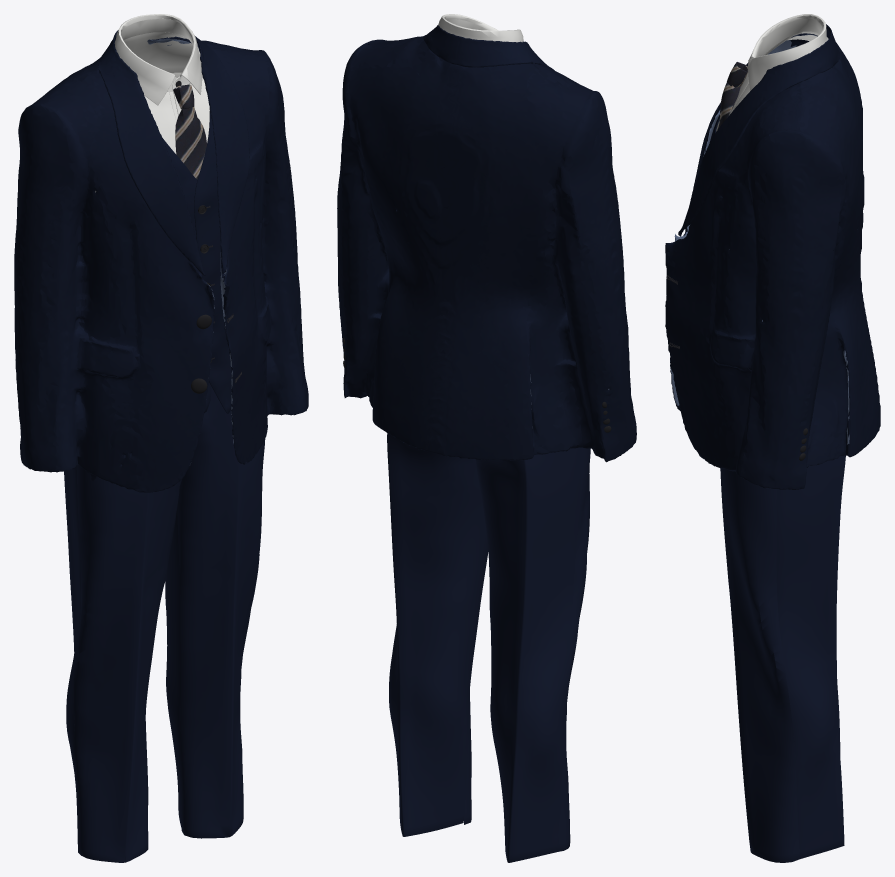
The model's file is MW_Tailleur_suit_v5_REBUILD_shawl.glb.
The picture shows the model from 3 angles, left to right: view 1: azimuth 30°, elevation 25°; view 2: azimuth 150°, elevation 25°; view 3: azimuth 270°, elevation 25°; orthographic projection. The views are drawn at different scales.
Visible parts, largest first — view 1: Jacket, Trousers, Shirt, Waistcoat, Tie, Trim; view 2: Jacket, Trousers, Shirt; view 3: Jacket, Trousers, Shirt, Tie.
Part boxes in pixels (box(x1,y1,x2,y2)): Jacket: box(14, 30, 308, 492); Trousers: box(64, 382, 265, 862); Shirt: box(95, 14, 209, 192); Waistcoat: box(162, 44, 256, 413); Tie: box(173, 84, 206, 179); Trim: box(20, 81, 211, 428); Jacket: box(337, 25, 636, 462); Trousers: box(387, 433, 590, 862); Shirt: box(438, 14, 523, 42); Jacket: box(665, 24, 880, 489); Trousers: box(720, 455, 845, 862); Shirt: box(716, 14, 828, 131); Tie: box(717, 62, 747, 129).
Size of the model in its own units: 0.5382 by 1.5 by 0.366.
9 materials, 4 textured.
